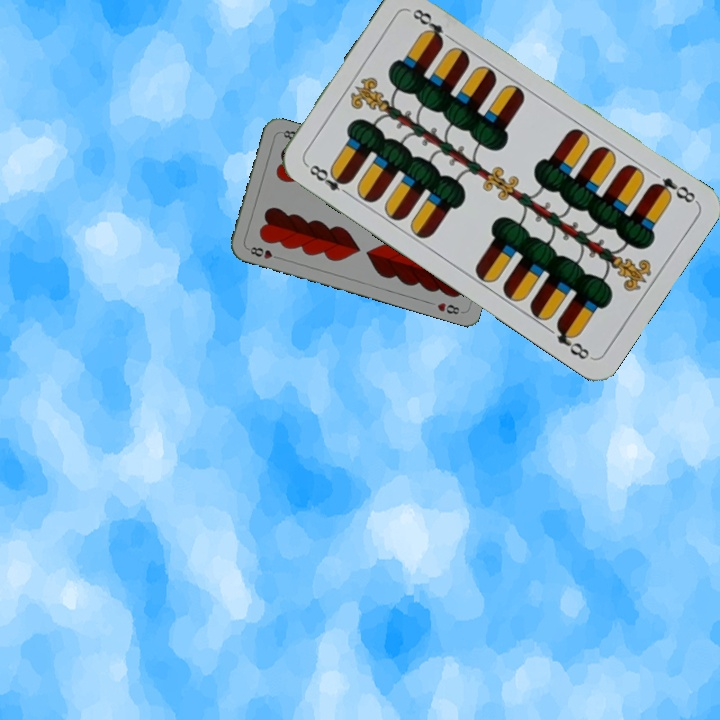E8: (302, 159, 354, 199), (646, 173, 699, 206)
H8: (244, 243, 283, 262)
